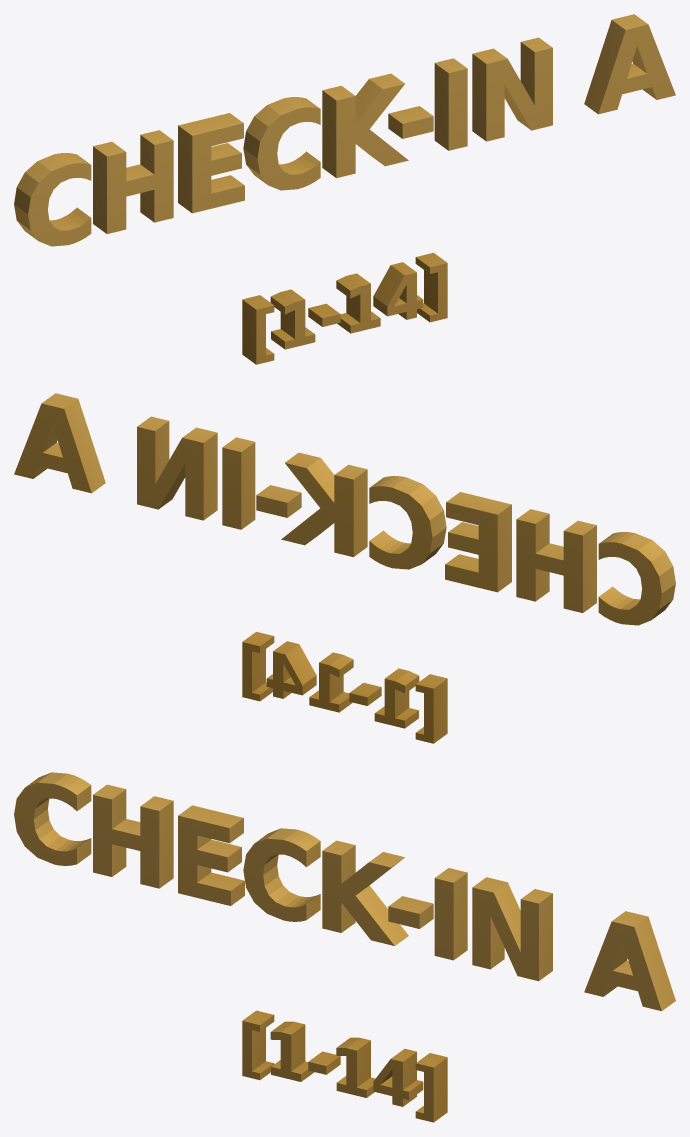
File: CHECK_IN_A_1_14.glb
3 views of the same model, one above another, from view 1: azimuth 30°, elevation 25°; view 2: azimuth 150°, elevation 25°; view 3: azimuth 330°, elevation 25° (orthographic).
Visible parts, largest first — view 1: world; view 2: world; view 3: world.
Boxes of the visible parts, x1,y1,x2,y2 form: world: (14, 14, 675, 364); world: (14, 393, 675, 743); world: (14, 772, 675, 1122).
Bounding box in the file's own units: 15.4 × 5.59 × 0.5805.
